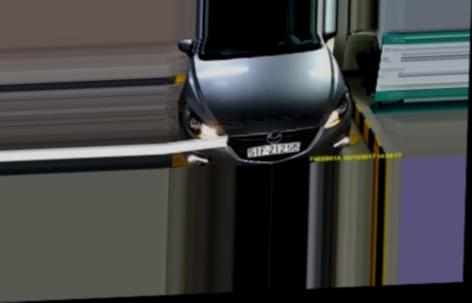License_Plate: (245, 139, 302, 161)
